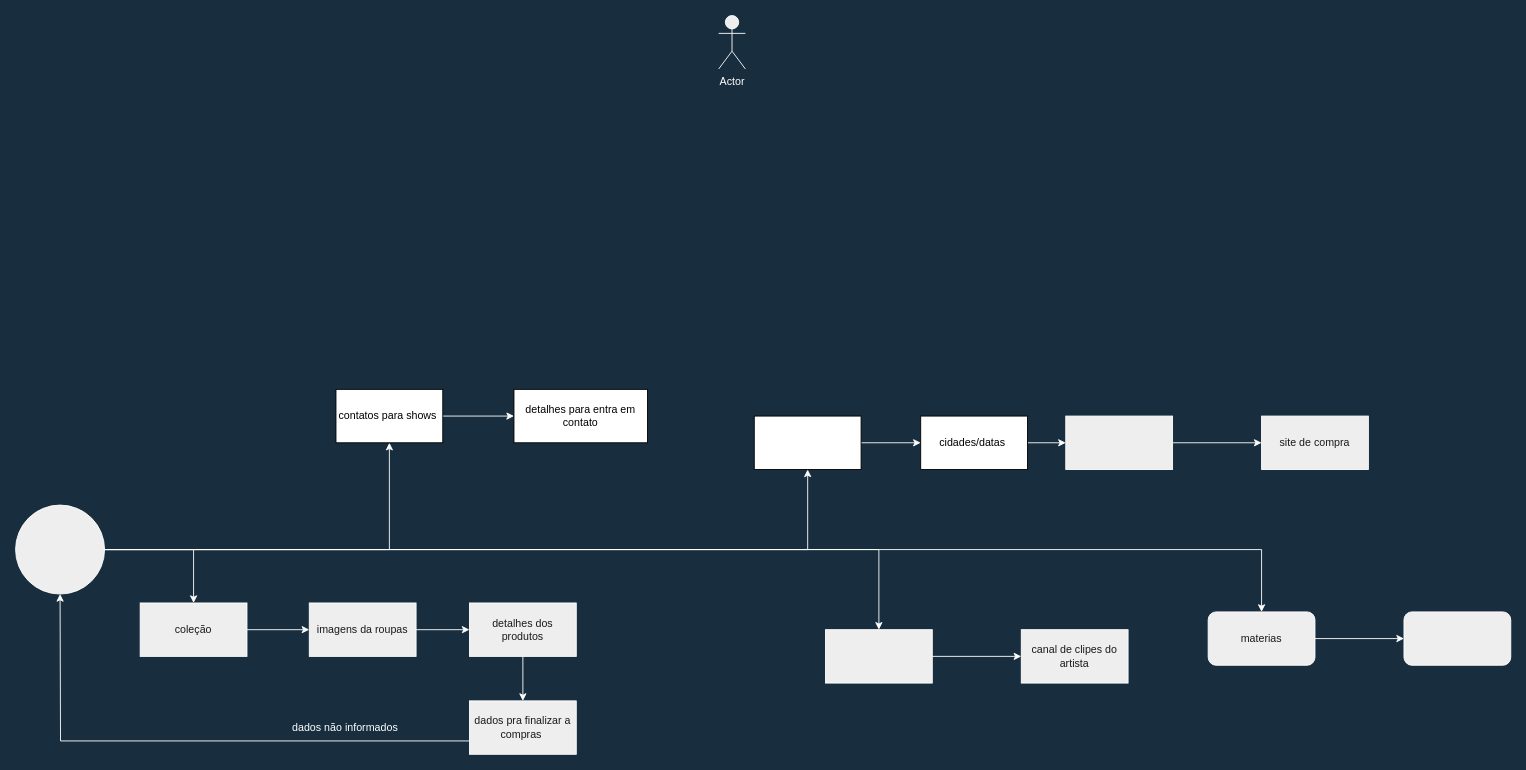
This 1526x770 diagram has some shape labels left out. The shapes that lost their labels are listed below. From the top down, each one's centre as x and y in pixels, then its label:
At (807,442): "shows".
At (1119,442): "link de vendas de ingresso".
At (60,549): "paginas inicia".
At (878,656): "videos".
At (1457,638): "links de materias".
